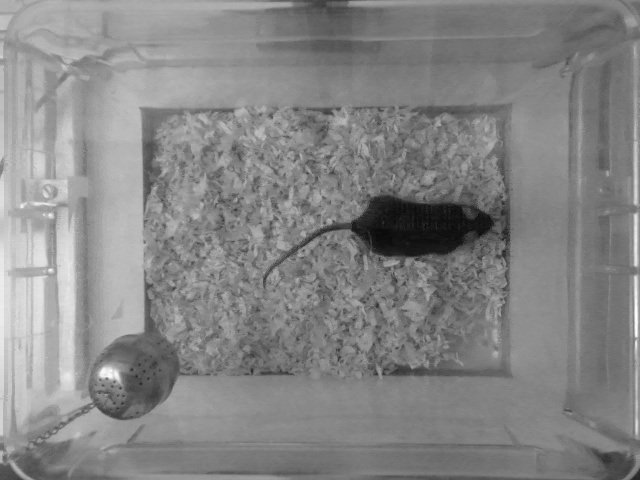mice: (261, 192, 499, 287)
